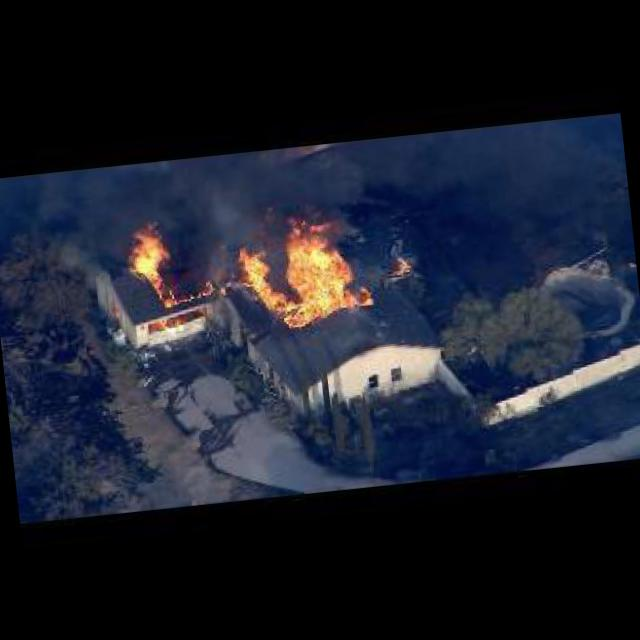fire: (274, 202, 374, 328), (122, 214, 177, 311), (237, 242, 299, 315), (392, 252, 410, 274), (197, 278, 213, 296), (218, 284, 226, 296), (180, 294, 195, 299)
